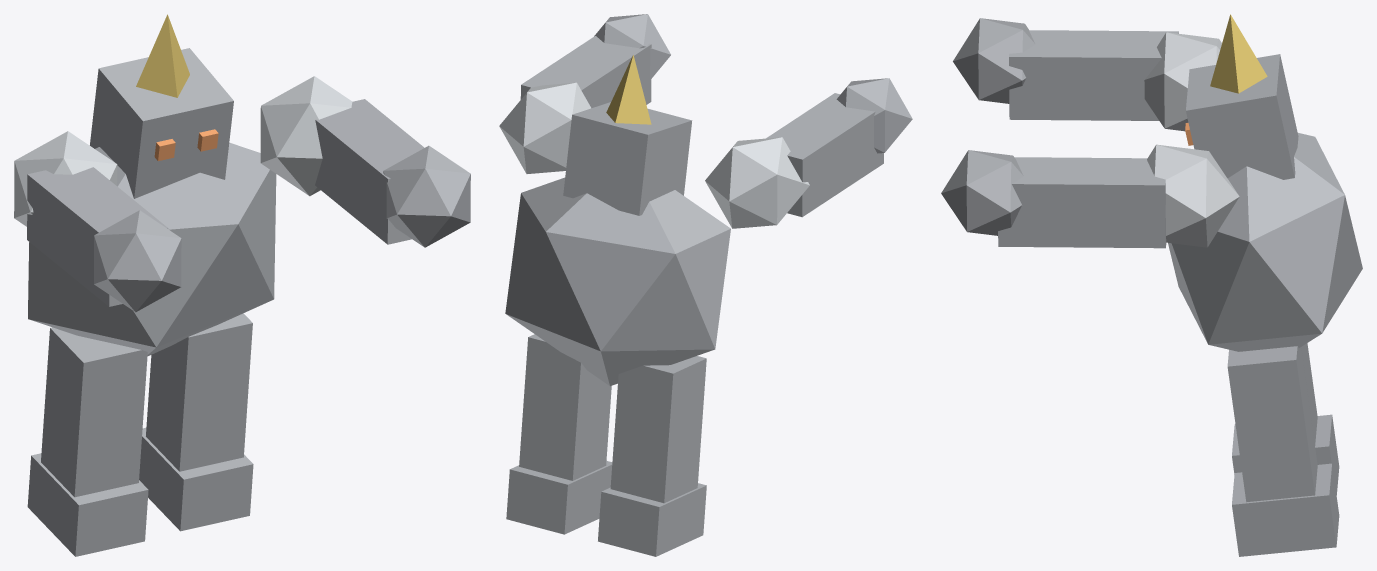
File: npcpose_golem_attack_09.glb
The picture shows the model from 3 angles, left to right: view 1: azimuth 30°, elevation 25°; view 2: azimuth 150°, elevation 25°; view 3: azimuth 270°, elevation 25°; orthographic projection. The views are drawn at different scales.
Visible parts, largest first — view 1: npcpose; view 2: npcpose; view 3: npcpose.
Part boxes in pixels (x1,y1,x2,y2): npcpose: [14, 14, 470, 556]; npcpose: [499, 14, 912, 556]; npcpose: [941, 14, 1362, 556].
Bounding box in the file's own units: 1.39 × 1.92 × 1.46.
